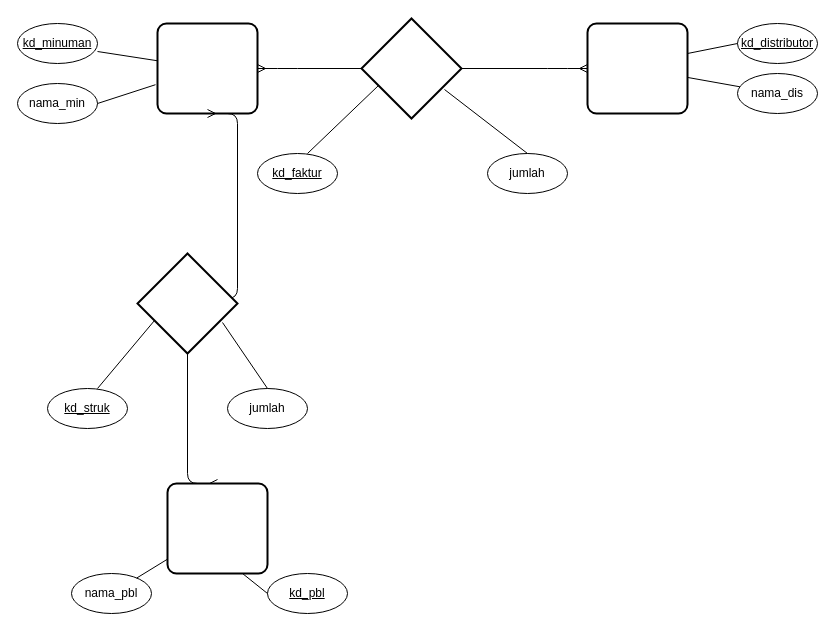
Image size: 835x631. Some labels were removed from this diagram. The shapes that lost their labels are listed below. From the top down, each one's box as (x1, y1, x2, y2) in pixels, then its label:
(156, 22, 258, 114): Minuman
(360, 17, 462, 119): Pembelian
(586, 22, 688, 114): Distributor
(136, 252, 238, 354): Penjualan
(166, 482, 268, 574): Pembeli
